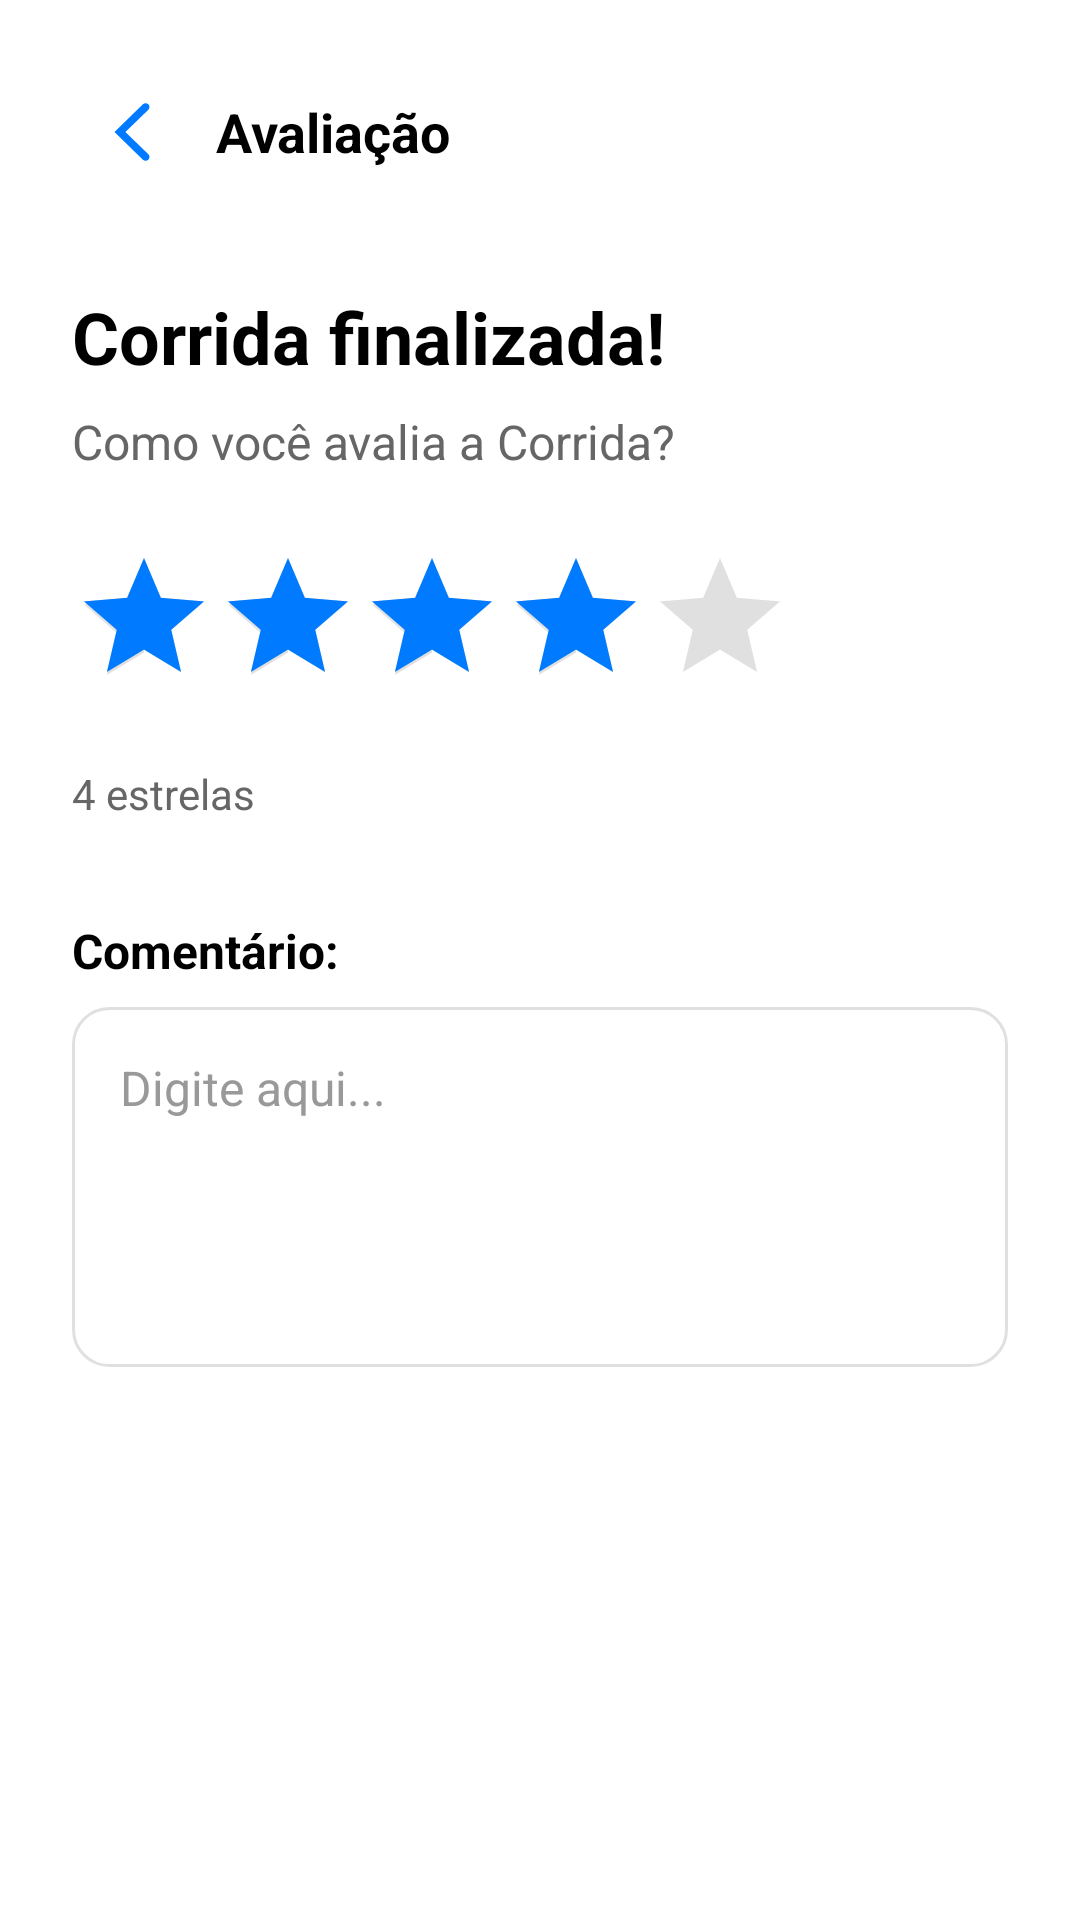

Named icons in this screenshot (1080*1920) and their bounding boxes, (x1, y1, x2, y2):
Voltar: (114, 103, 150, 161)
